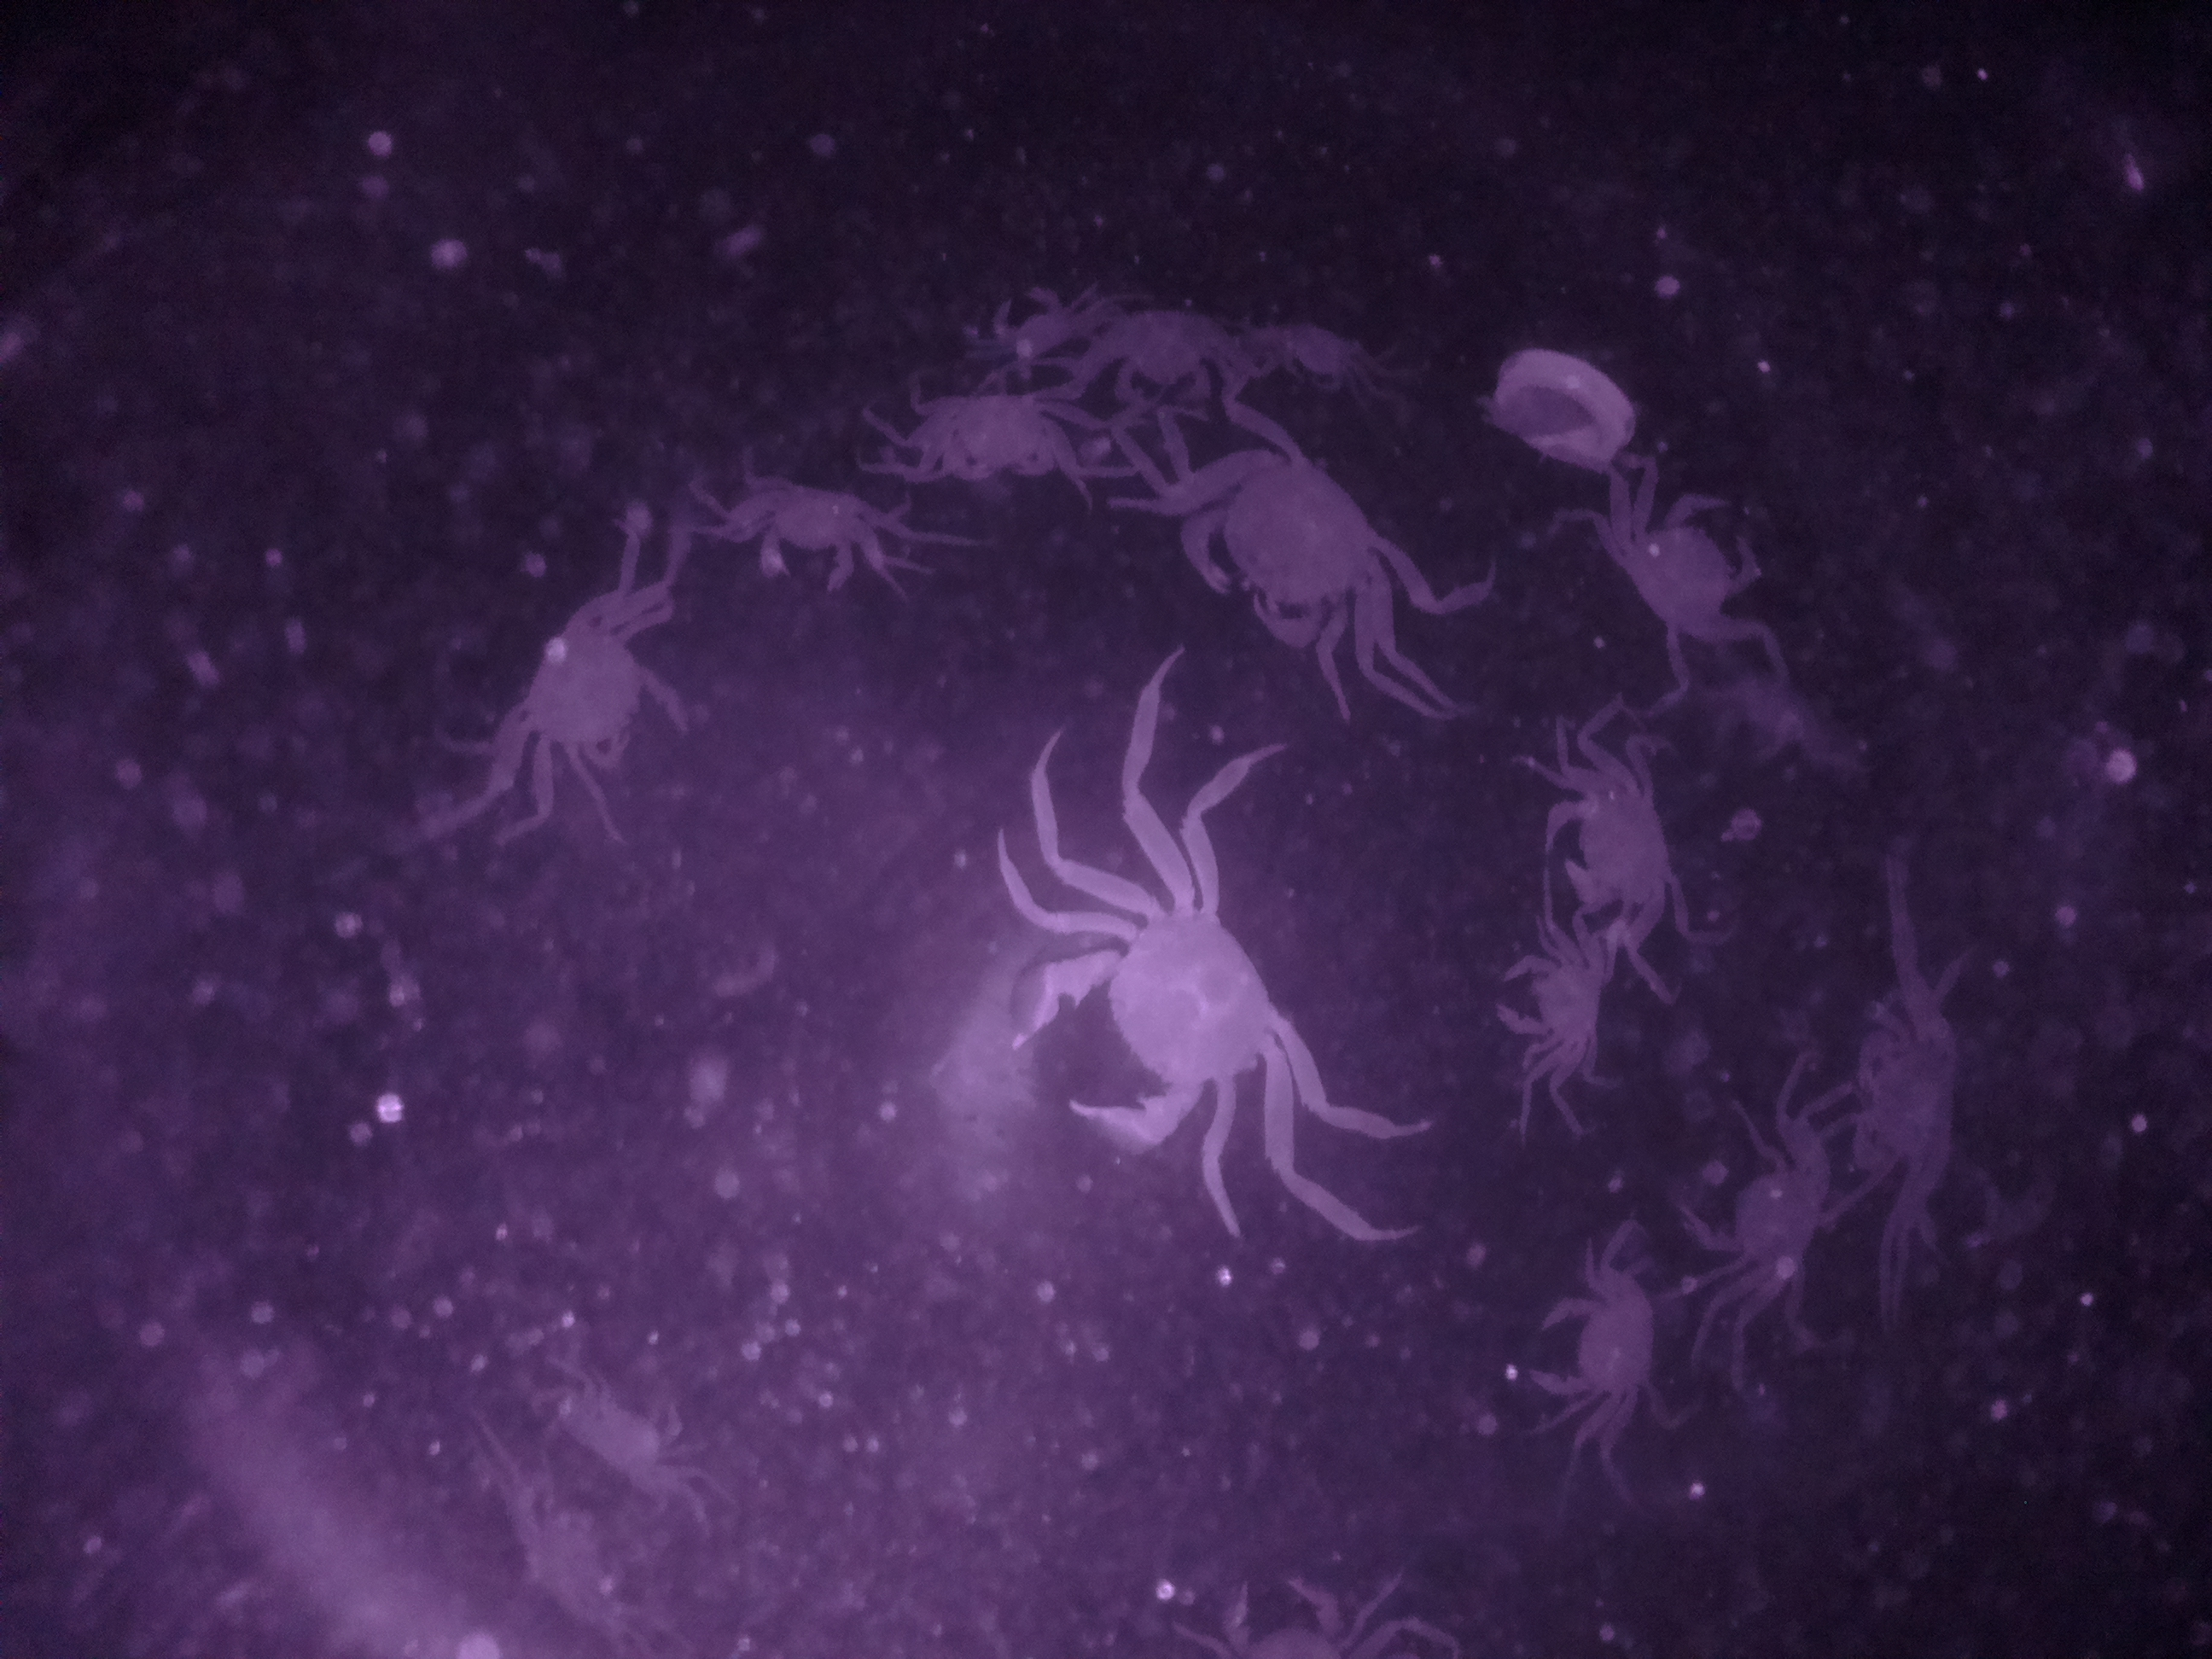Crab: (981, 871, 1308, 1152), (1165, 425, 1393, 664), (489, 606, 700, 798), (1623, 474, 1764, 660), (1522, 760, 1681, 922), (1526, 1272, 1674, 1424), (742, 467, 914, 596), (1486, 929, 1627, 1065)
